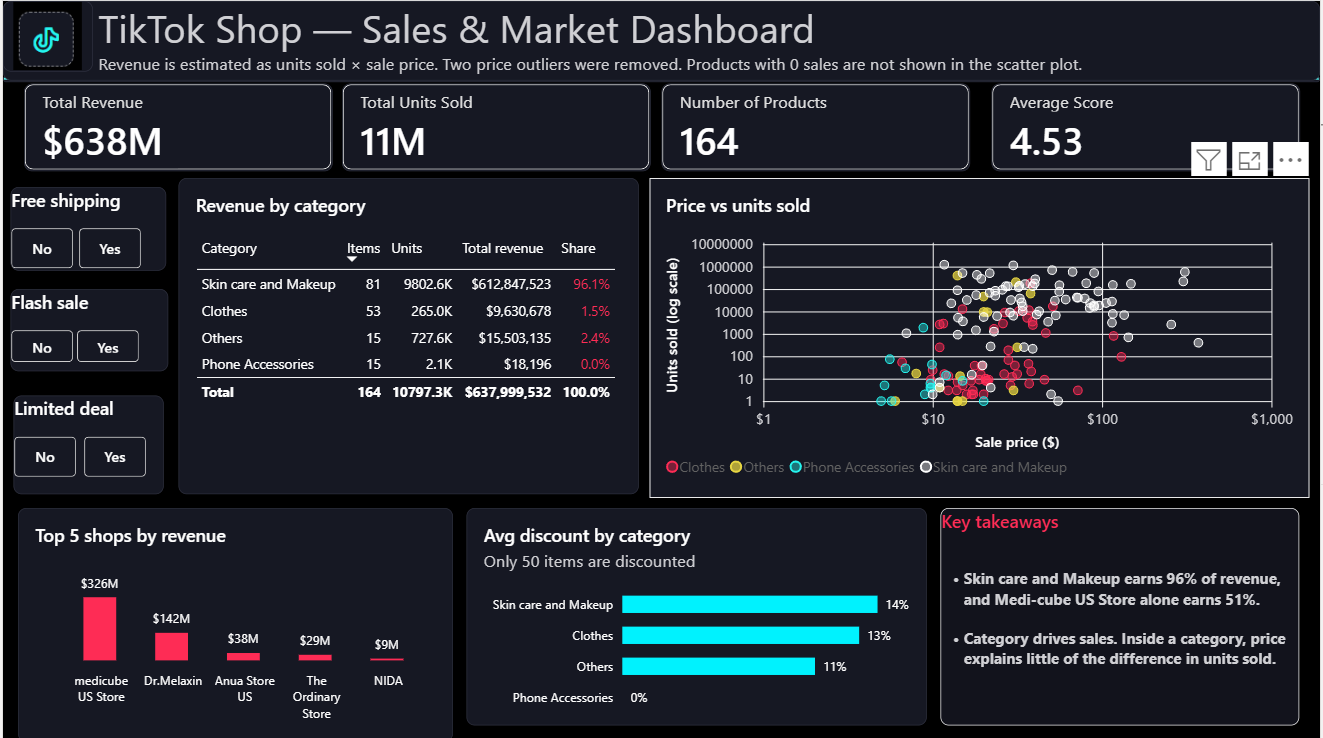

Layout of this report page (visuals, bound fields, positions):
{"tool":"powerbi","page":{"name":"Tiktokshop","canvas":[1280,720],"ordinal":0},"visuals":[{"type":"cardVisual","fields":{"Data":["Sum(Tiktok_shop.Revenue)"]},"box":[20,80,300,85],"z":0},{"type":"cardVisual","fields":{"Data":["Sum(Tiktok_shop.soldCount)"]},"box":[330,80.2,300,85],"z":1000},{"type":"cardVisual","fields":{"Data":["CountNonNull(Tiktok_shop.category)"]},"box":[640,80.2,300,85],"z":2000},{"type":"cardVisual","fields":{"Data":["Avg(Tiktok_shop.score)"]},"box":[960,80.2,300,85],"z":3000},{"type":"clusteredBarChart","title":"Units sold by category","fields":{"Category":["Tiktok_shop.category"],"Y":["Sum(Tiktok_shop.soldCount)"]},"box":[1281,0,638.2,524.7],"z":4000},{"type":"advancedSlicerVisual","fields":{"Values":["Tiktok_shop.Has Limited Deal"]},"box":[10.2,383.4,145.8,96.2],"z":5000},{"type":"advancedSlicerVisual","fields":{"Values":["Tiktok_shop.Has Flash Sale"]},"box":[7.3,279.9,153.1,80.2],"z":6000},{"type":"clusteredColumnChart","title":"Top 5 shops by revenue","fields":{"Category":["Tiktok_shop.shopName"],"Y":["Sum(Tiktok_shop.Revenue)"]},"box":[14.6,492.8,422.8,227.4],"z":7000},{"type":"donutChart","title":"Products by Category","fields":{"Category":["Tiktok_shop.category"],"Y":["CountNonNull(Tiktok_shop.category)"]},"box":[1281,538.3,638.2,424.7],"z":8000},{"type":"barChart","fields":{"Category":["Tiktok_shop.category"],"Y":["Avg(Tiktok_shop.Discount %)"]},"box":[0,751.8,483.8,290.7],"z":9000},{"type":"barChart","title":"Avg discount by category","fields":{"Category":["Tiktok_shop.category"],"Y":["Avg(Tiktok_shop.Discount %)"]},"box":[450.5,492.8,447.6,211.4],"z":10000},{"type":"shape","box":[0,72.9,1280,5.8],"z":11000},{"type":"advancedSlicerVisual","fields":{"Values":["Tiktok_shop.Has a free shipping"]},"box":[7.3,180.8,151.6,81.6],"z":12000},{"type":"tableEx","title":"Revenue by category","fields":{"Values":["Tiktok_shop.category","CountNonNull(Tiktok_shop.category)","Sum(Tiktok_shop.soldCount)","Sum(Tiktok_shop.Revenue)","Divide(Sum(Tiktok_shop.Revenue), ScopedEval(Sum(Tiktok_shop.Revenue), []))"]},"box":[170.6,172,447.6,307.6],"z":13000},{"type":"textbox","box":[0,0,1280,77],"z":14000},{"type":"image","box":[0,0,87.5,68.5],"z":15000},{"type":"scatterChart","title":"Price vs units sold","fields":{"Category":["Tiktok_shop.Index"],"Series":["Tiktok_shop.category"],"X":["Sum(Tiktok_shop.Sale_Price)"],"Y":["Sum(Tiktok_shop.Units Sold (log))"]},"box":[628.3,172,641.5,310.5],"z":16000},{"type":"textbox","title":"Key takeaways","box":[911.2,492.8,348.4,211.4],"z":18000}]}

Visuals, with their boxes in screenshot pixels (x1, y1, x2, y2), scaled from the page's 1280x720 canvas onto the 1323x738 screenshot:
cardVisual - Sum(Tiktok_shop.Revenue): 21, 82, 331, 169
cardVisual - Sum(Tiktok_shop.soldCount): 341, 82, 651, 169
cardVisual - CountNonNull(Tiktok_shop.category): 662, 82, 972, 169
cardVisual - Avg(Tiktok_shop.score): 992, 82, 1302, 169
advancedSlicerVisual - Tiktok_shop.Has Limited Deal: 11, 393, 161, 492
advancedSlicerVisual - Tiktok_shop.Has Flash Sale: 8, 287, 166, 369
"Top 5 shops by revenue" clusteredColumnChart: 15, 505, 452, 737
"Avg discount by category" barChart: 466, 505, 928, 722
shape: 0, 75, 1322, 81
advancedSlicerVisual - Tiktok_shop.Has a free shipping: 8, 185, 164, 269
"Revenue by category" tableEx: 176, 176, 639, 492
textbox: 0, 0, 1322, 79
image: 0, 0, 90, 70
"Price vs units sold" scatterChart: 649, 176, 1312, 495
"Key takeaways" textbox: 942, 505, 1302, 722
